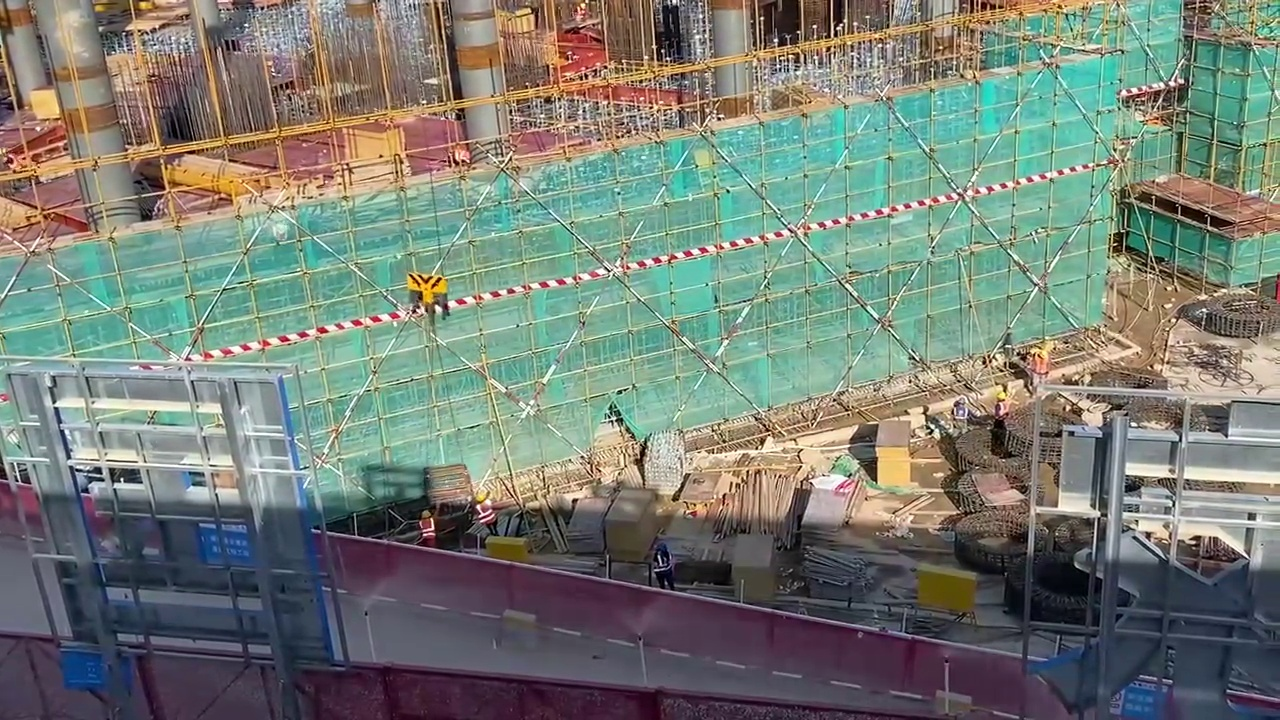board: (876, 423, 912, 490)
fence: (4, 629, 851, 720)
hook: (408, 275, 448, 308)
person: (468, 489, 499, 536), (649, 542, 674, 591), (417, 505, 440, 542)
wood: (721, 471, 796, 540)
